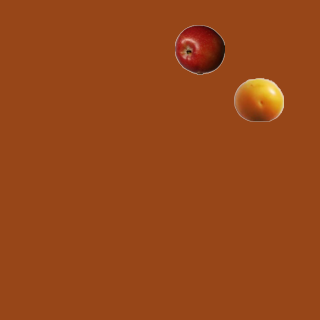Apple Braeburn: (174, 24, 224, 74)
Cherry Wax Yellow: (233, 74, 283, 124)
